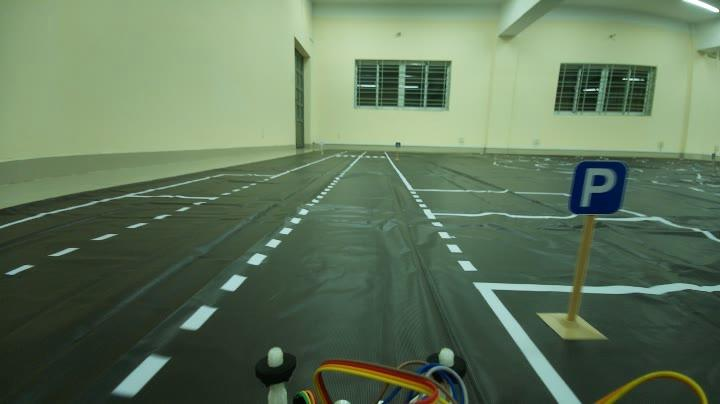parking: (566, 156, 625, 219)
